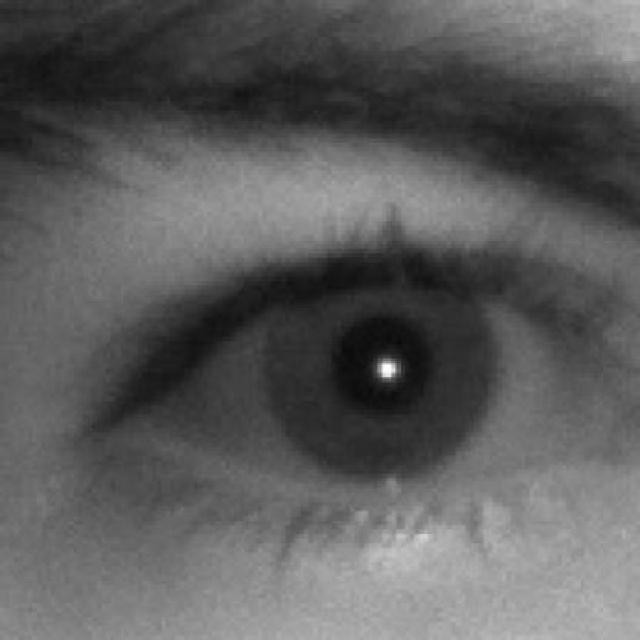awake: (106, 239, 636, 530)
